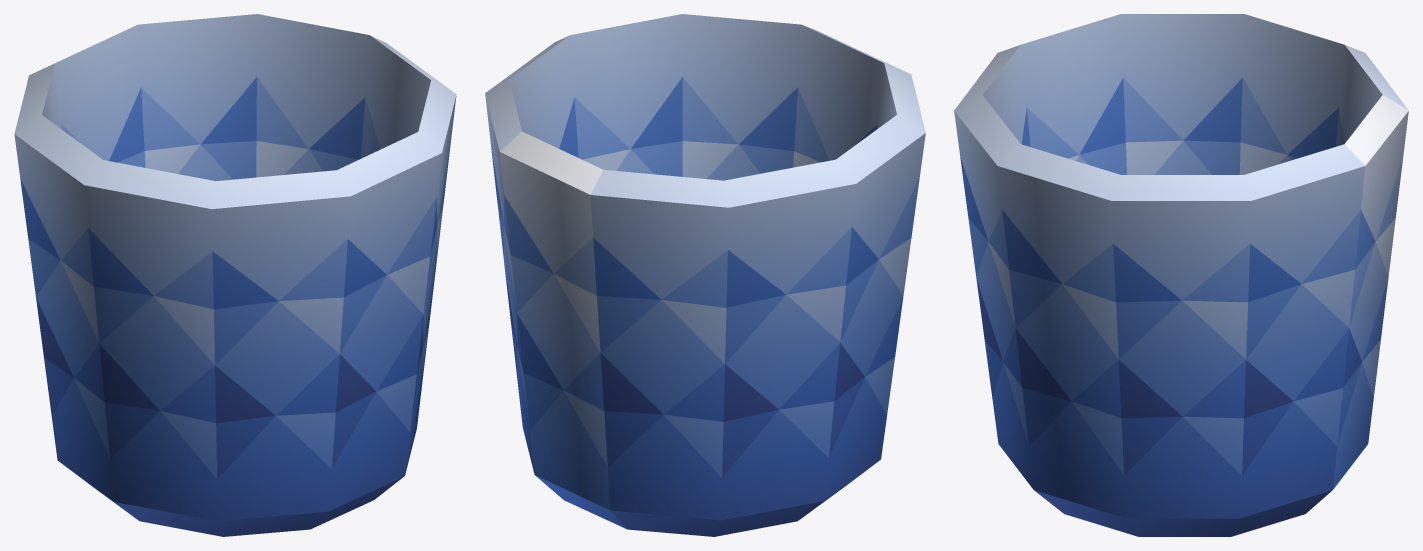
File: m_Glass12.fbx
The picture shows the model from 3 angles, left to right: view 1: azimuth 30°, elevation 25°; view 2: azimuth 150°, elevation 25°; view 3: azimuth 270°, elevation 25°; orthographic projection.
Visible parts, largest first — view 1: m_Glass12; view 2: m_Glass12; view 3: m_Glass12.
Part boxes in pixels (<box>): m_Glass12: <box>14,14,456,536</box>; m_Glass12: <box>485,14,925,536</box>; m_Glass12: <box>954,14,1408,536</box>.
Bounding box in the file's own units: 12.35 × 12 × 12.98.
